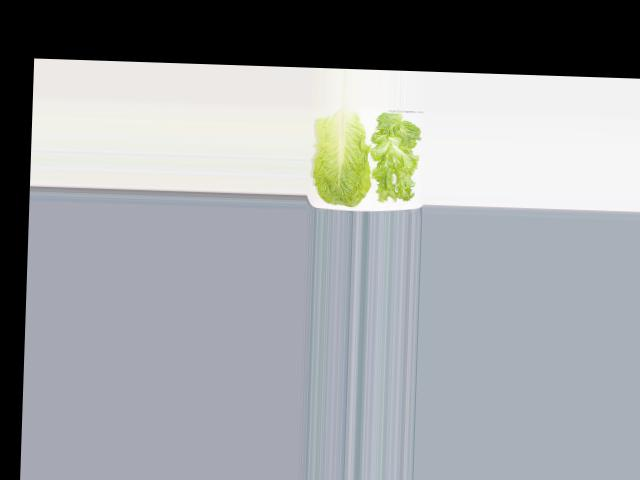lettuce: (371, 115, 427, 204)
